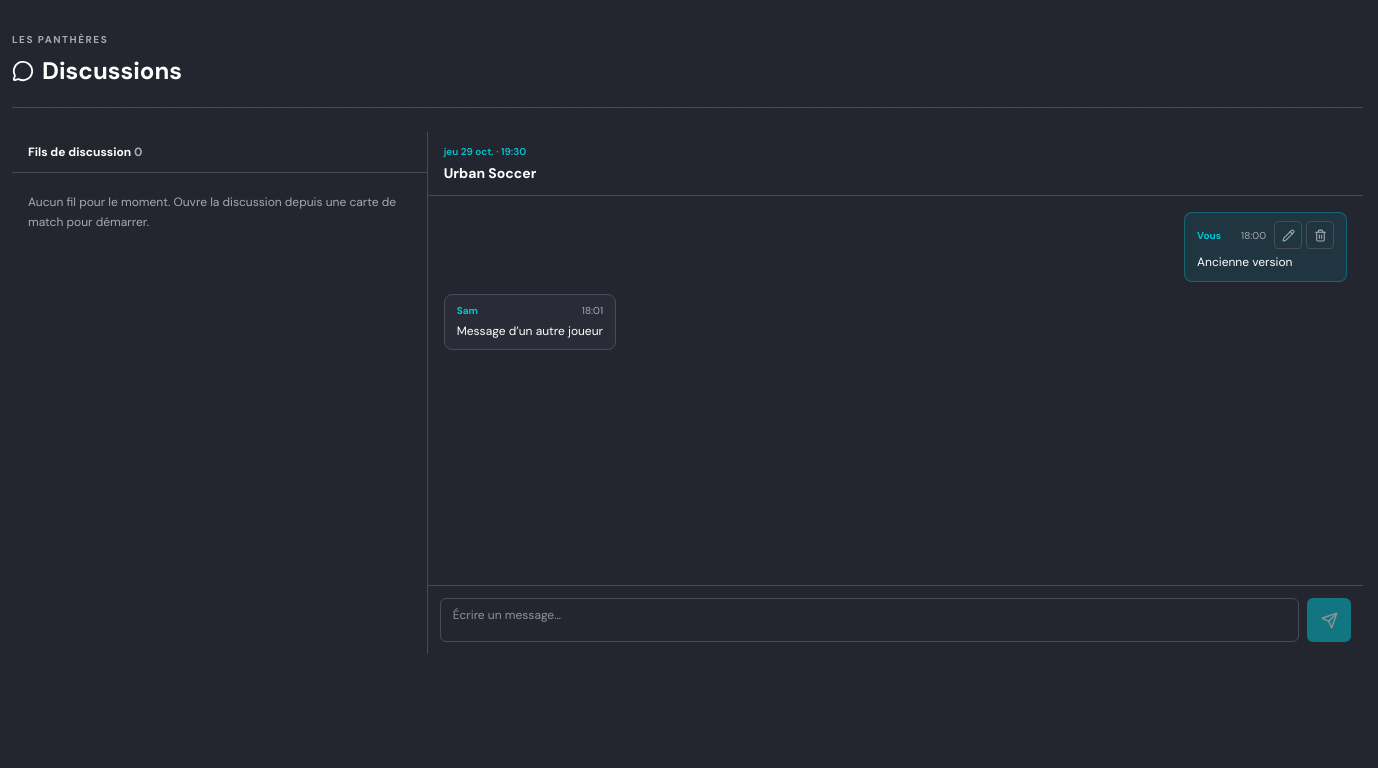
Test: DiscussionsPage › permet de modifier uniquement son propre message
Check: the number of buttons named "Supprimer mon message" is 1, box [1306, 221, 1334, 249]
Click the button named "Modifier mon message" at (1288, 235), box [1274, 221, 1302, 249]
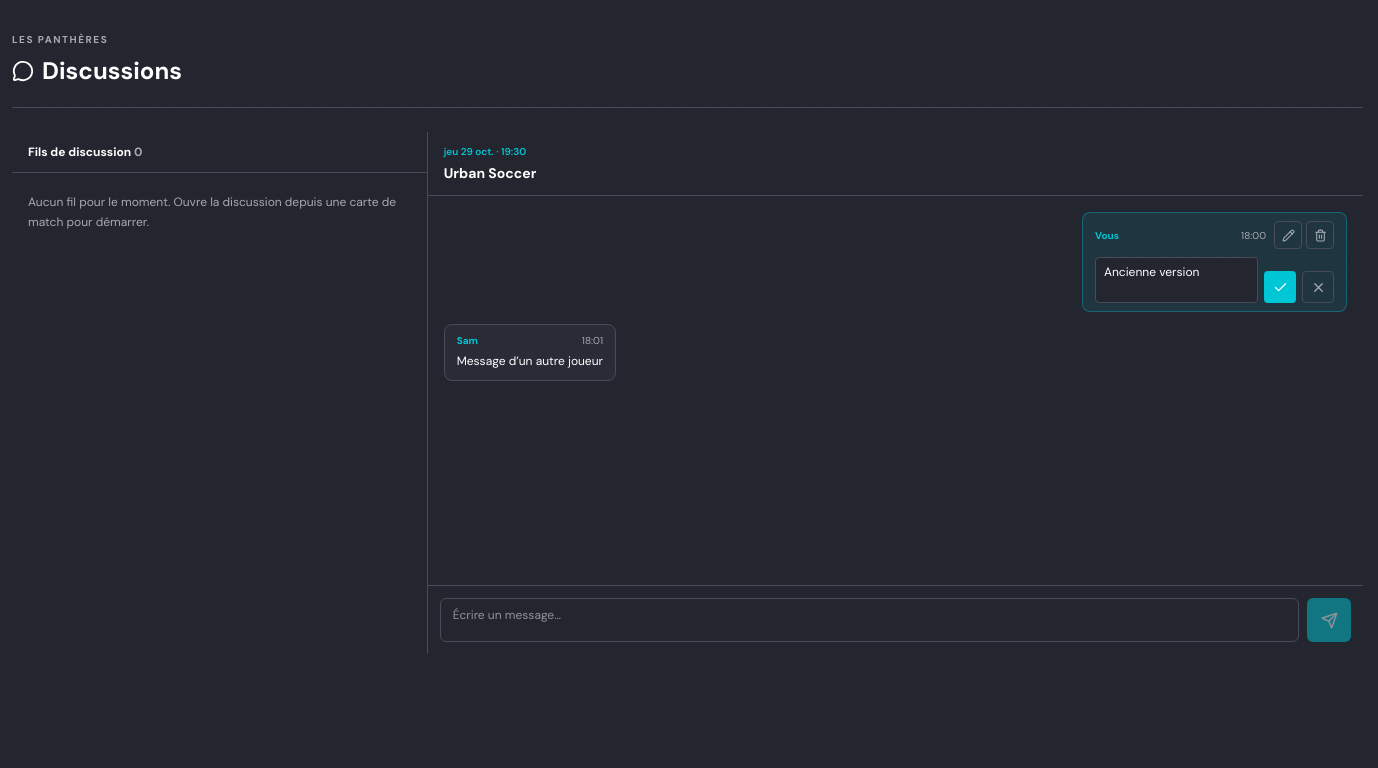
Replace the text in the text box named "Modifier mon message" with "Version corrigée" at (1176, 280), box [1095, 257, 1258, 303]
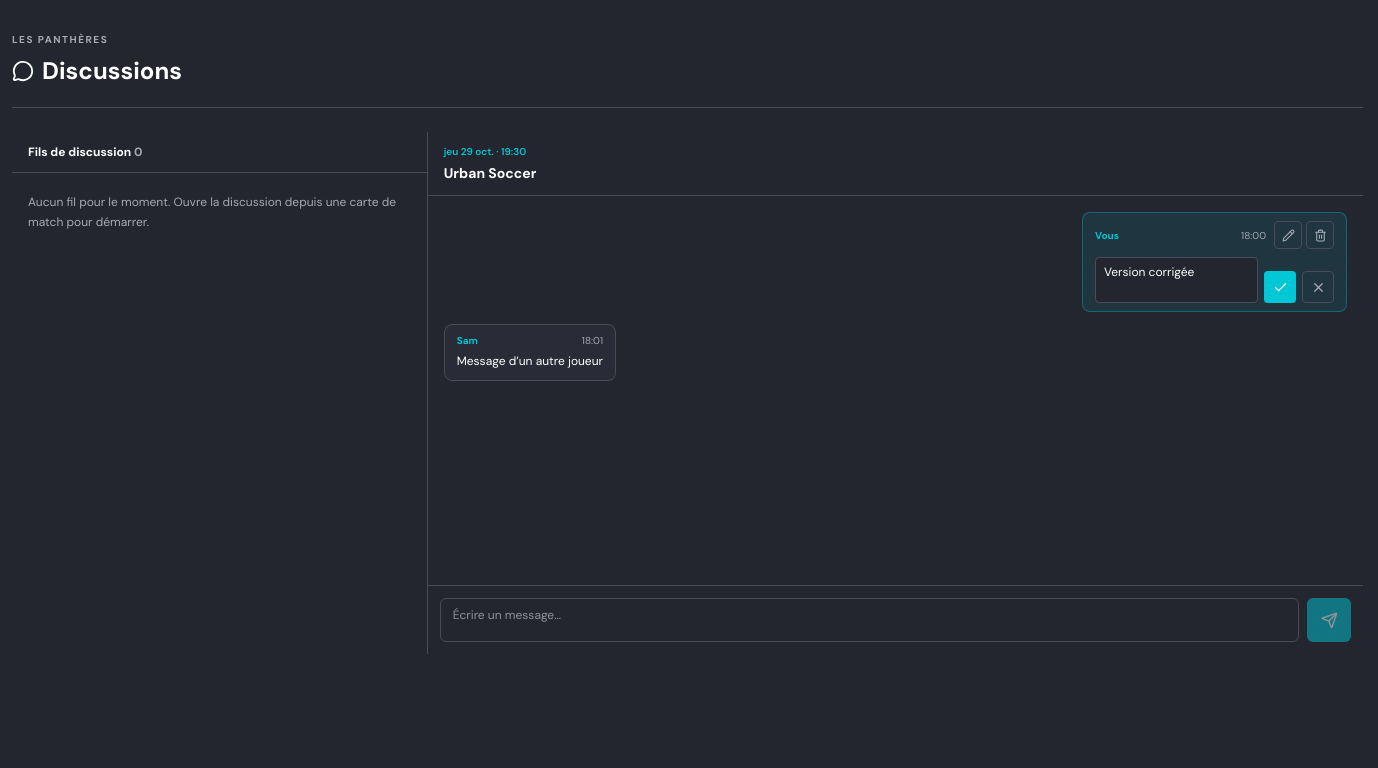
Click the button named "Enregistrer la modification" at (1280, 287), box [1264, 271, 1296, 303]
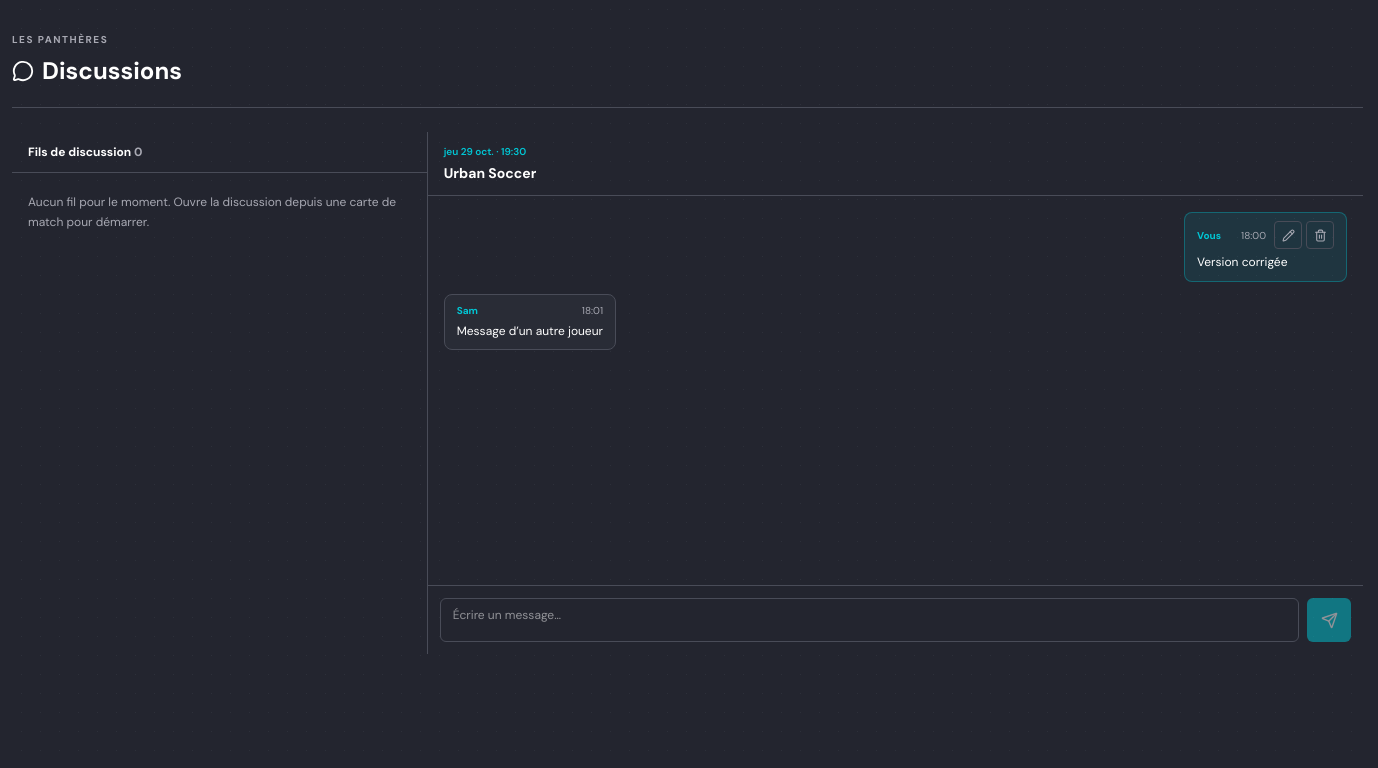
Check: the text "Version corrigée" is shown, box [1197, 254, 1287, 270]
